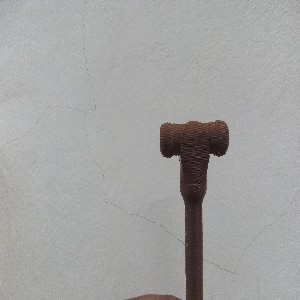palu: (158, 118, 230, 300)
